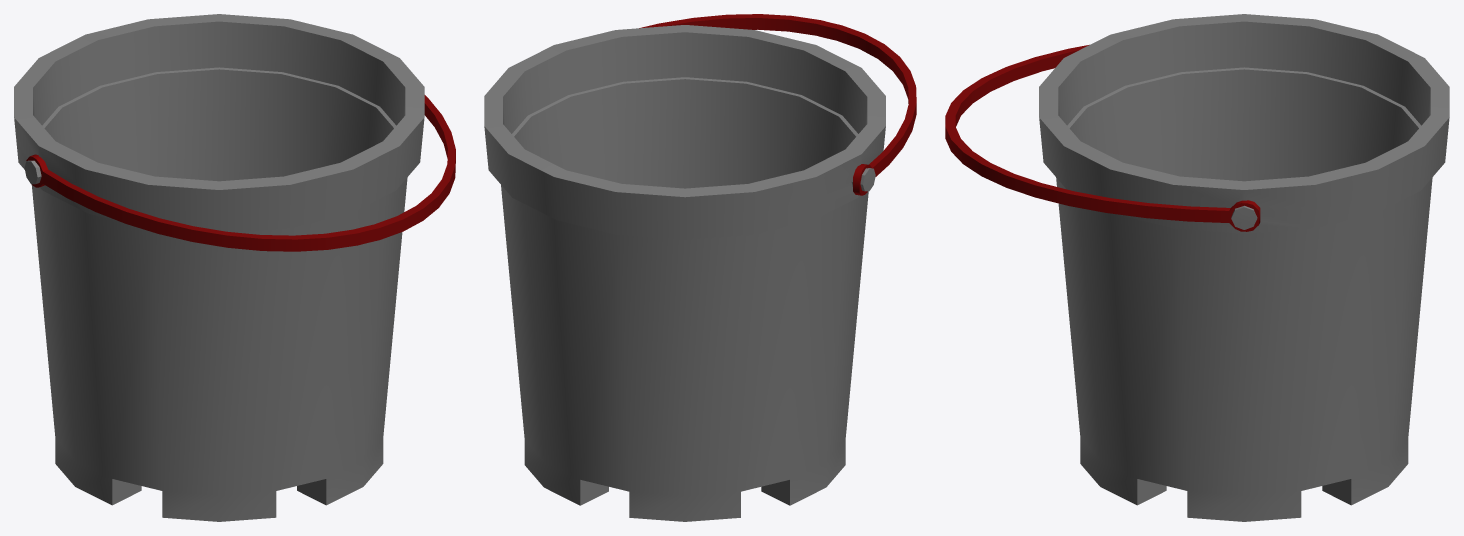
Rendered from Bucket.fbx.
3 views of the same model, side by side, from view 1: azimuth 30°, elevation 25°; view 2: azimuth 150°, elevation 25°; view 3: azimuth 270°, elevation 25° (orthographic). The views are drawn at different scales.
Visible parts, largest first — view 1: Bucket, Handle; view 2: Bucket, Handle; view 3: Bucket, Handle.
Boxes of the visible parts, <box> form: Bucket: <box>14,14,424,521</box>; Handle: <box>26,95,455,251</box>; Bucket: <box>484,25,885,521</box>; Handle: <box>639,14,916,195</box>; Bucket: <box>1039,14,1449,521</box>; Handle: <box>945,44,1260,231</box>.
Size of the model in its own units: 74.6 by 66.24 by 86.44.
